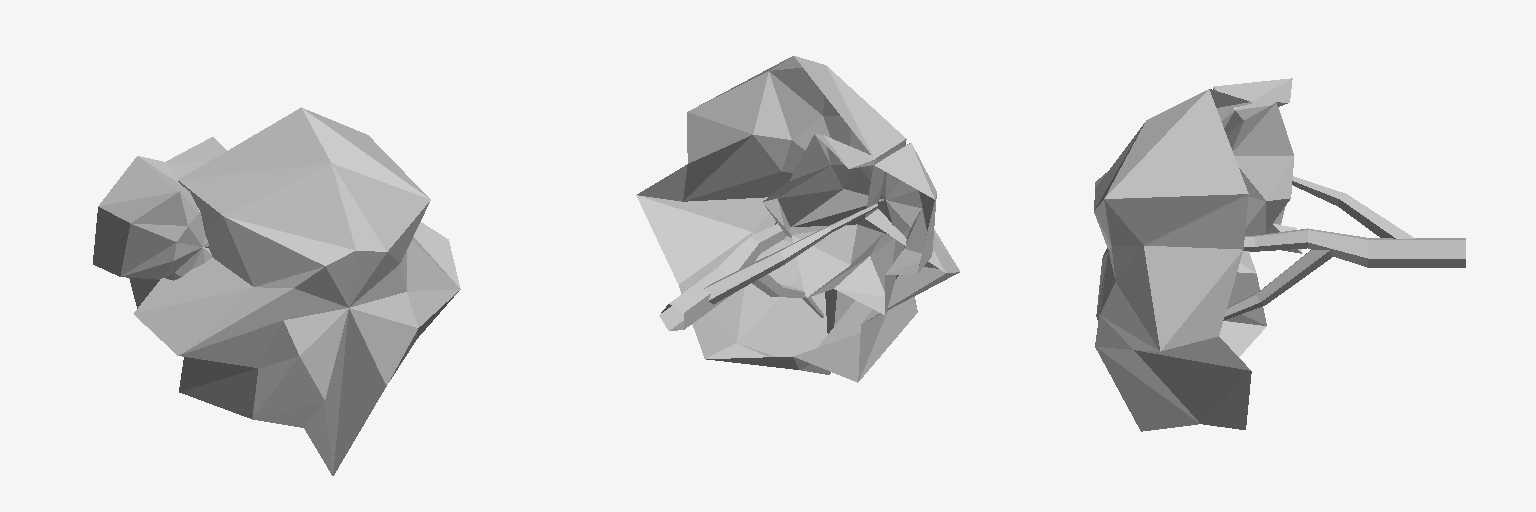
The model's file is tree2.obj.
3 views of the same model, side by side, from view 1: azimuth 30°, elevation 25°; view 2: azimuth 150°, elevation 25°; view 3: azimuth 270°, elevation 25° (orthographic).
Parts seen in each view (by area): view 1: leaves; view 2: leaves, trunks; view 3: leaves, trunks.
Part boxes in pixels (x1,y1,x2,y2): leaves: (93,107,460,475); leaves: (636,56,959,382); trunks: (659,203,877,330); leaves: (1094,78,1302,431); trunks: (1223,176,1465,320).
Bounding box in the file's own units: 206 × 209 × 205.